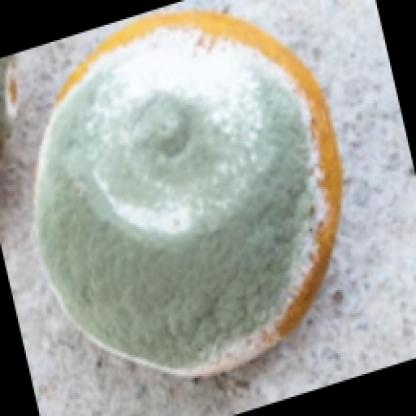rotten_orange: (42, 20, 347, 371)
